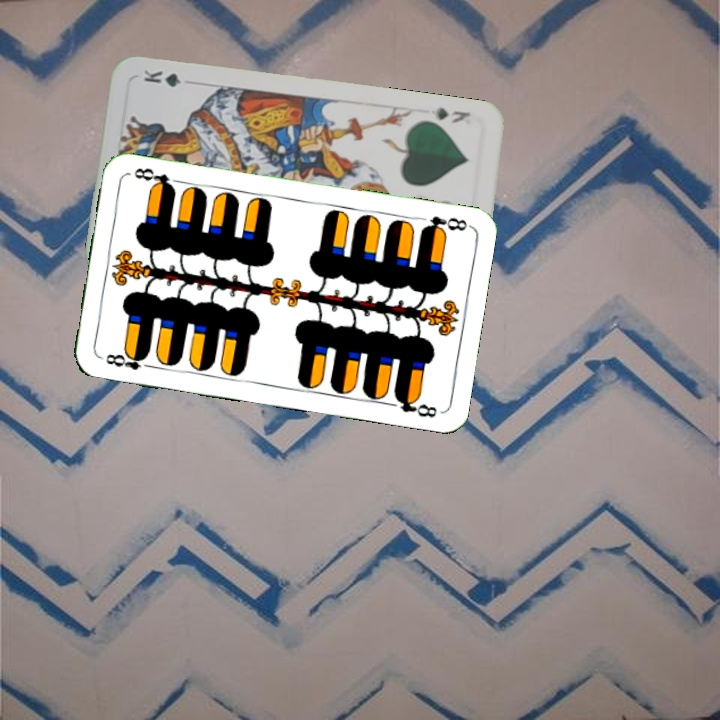E8: (102, 347, 156, 373), (417, 212, 471, 237)
GK: (432, 103, 473, 126)
